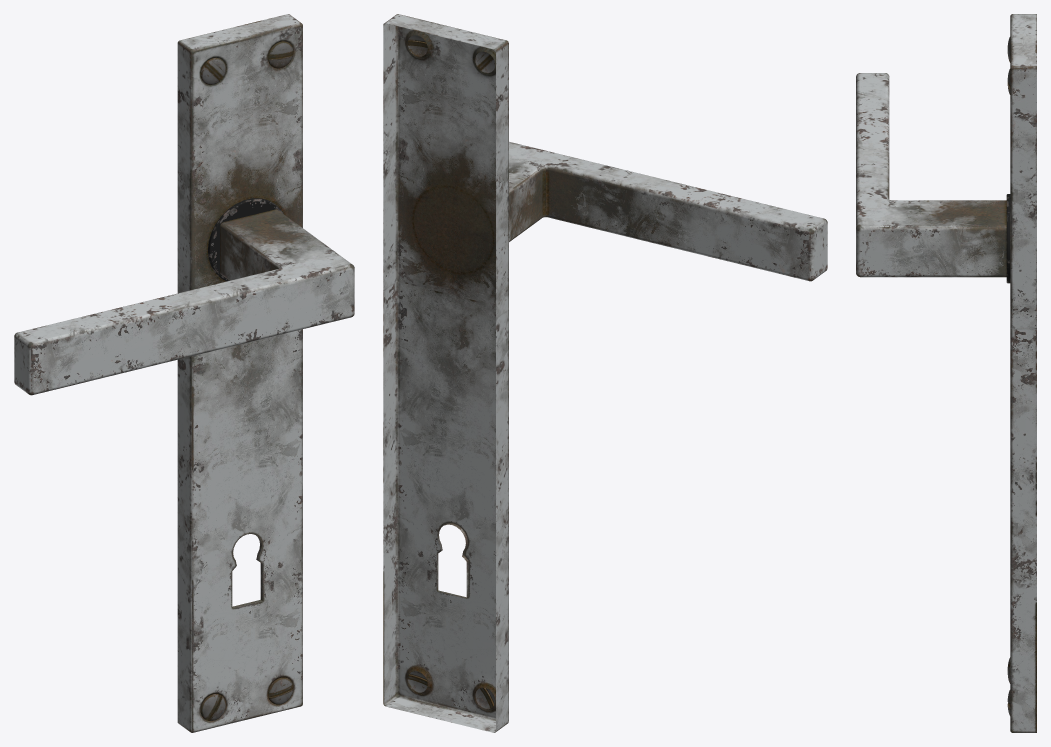
3 renders of one model, left to right at view 1: azimuth 30°, elevation 25°; view 2: azimuth 150°, elevation 25°; view 3: azimuth 270°, elevation 25°, orthographic. The views are drawn at different scales.
Visible parts, largest first — view 1: panel, handle, base, pSphere1, pSphere2, pSphere4; view 2: panel, handle; view 3: panel, handle, base.
Boxes of the visible parts, x1=… form: panel: x1=177, y1=14, x2=302, y2=732; handle: x1=14, y1=209, x2=354, y2=395; base: x1=208, y1=198, x2=283, y2=281; pSphere1: x1=200, y1=57, x2=225, y2=84; pSphere2: x1=268, y1=41, x2=293, y2=68; pSphere4: x1=268, y1=677, x2=293, y2=704; panel: x1=383, y1=14, x2=508, y2=732; handle: x1=509, y1=141, x2=827, y2=281; panel: x1=1010, y1=14, x2=1036, y2=732; handle: x1=856, y1=73, x2=1006, y2=277; base: x1=1006, y1=194, x2=1010, y2=283.
Size of the model in its own units: 11.9 by 22 by 5.41.
Materials: 1 (1 with a texture image).
